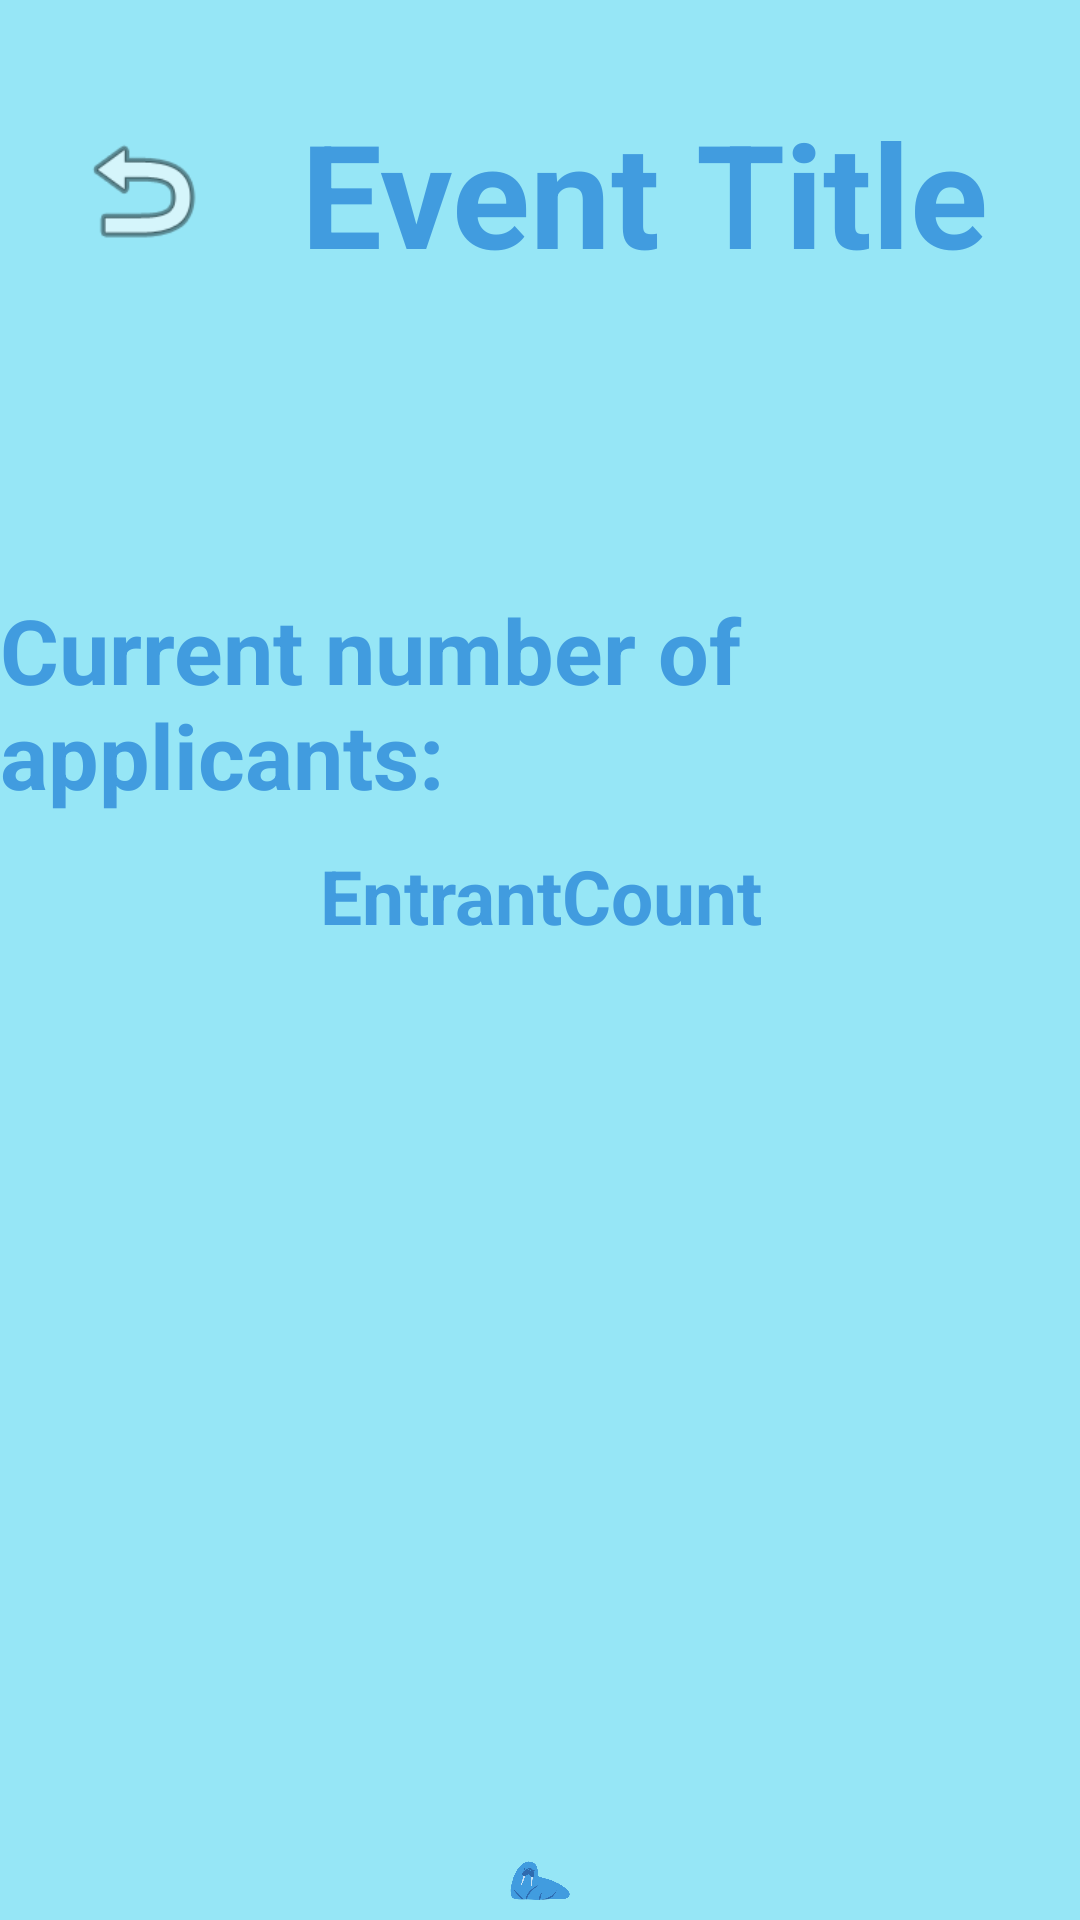

Screen size 1080 x 1920. Icon name, then its center in pixels as point (x, y):
revert: point (144, 191)
